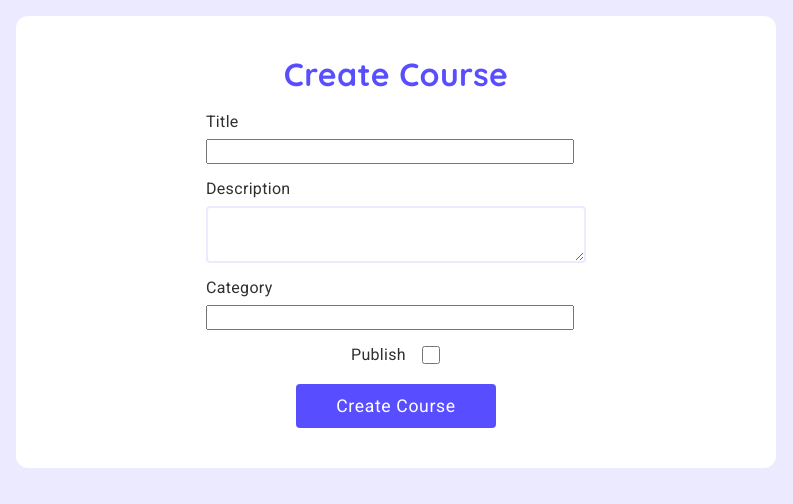
Scenario: CourseForm Component › displays validation error when title is empty
Click the button "Create Course".
click(396, 406)  # box [296,384,496,428]
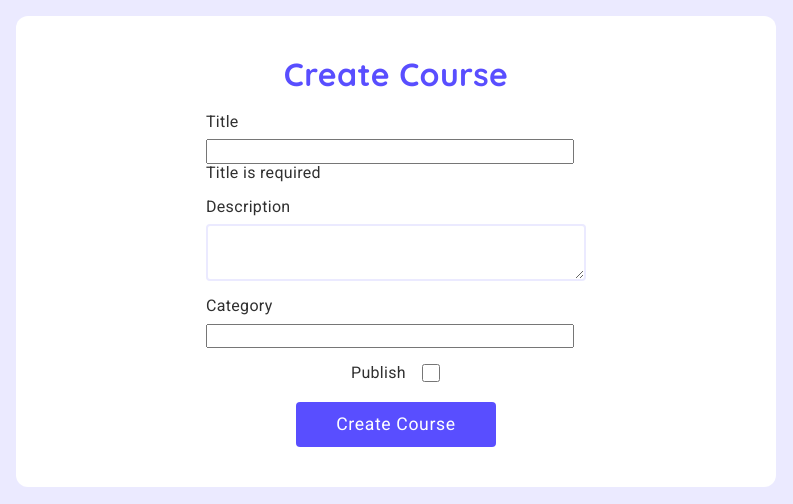
Check: the text "Title is required" is shown, box [206,163,321,182]
